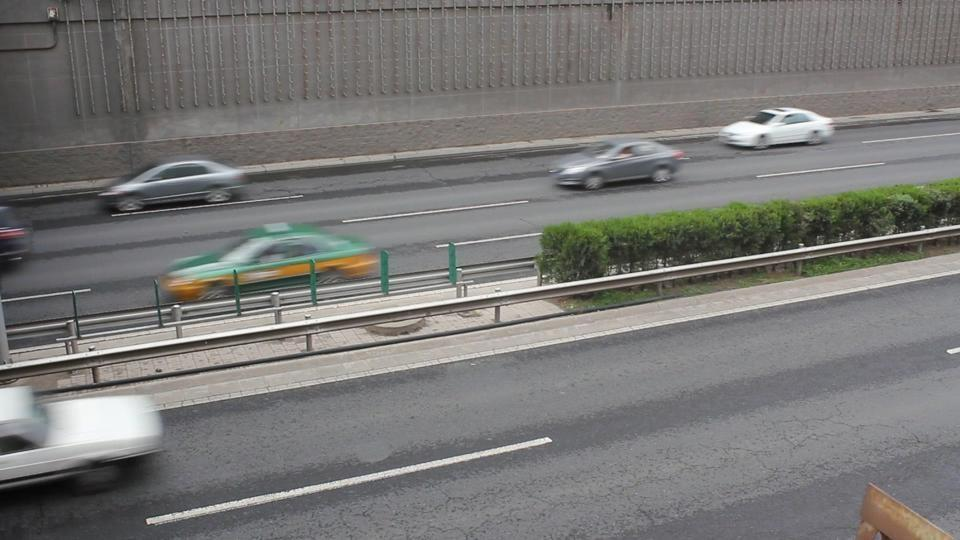car: (157, 223, 380, 304), (1, 384, 164, 489), (95, 157, 250, 215), (549, 139, 689, 191), (717, 106, 835, 151), (0, 204, 35, 267)
